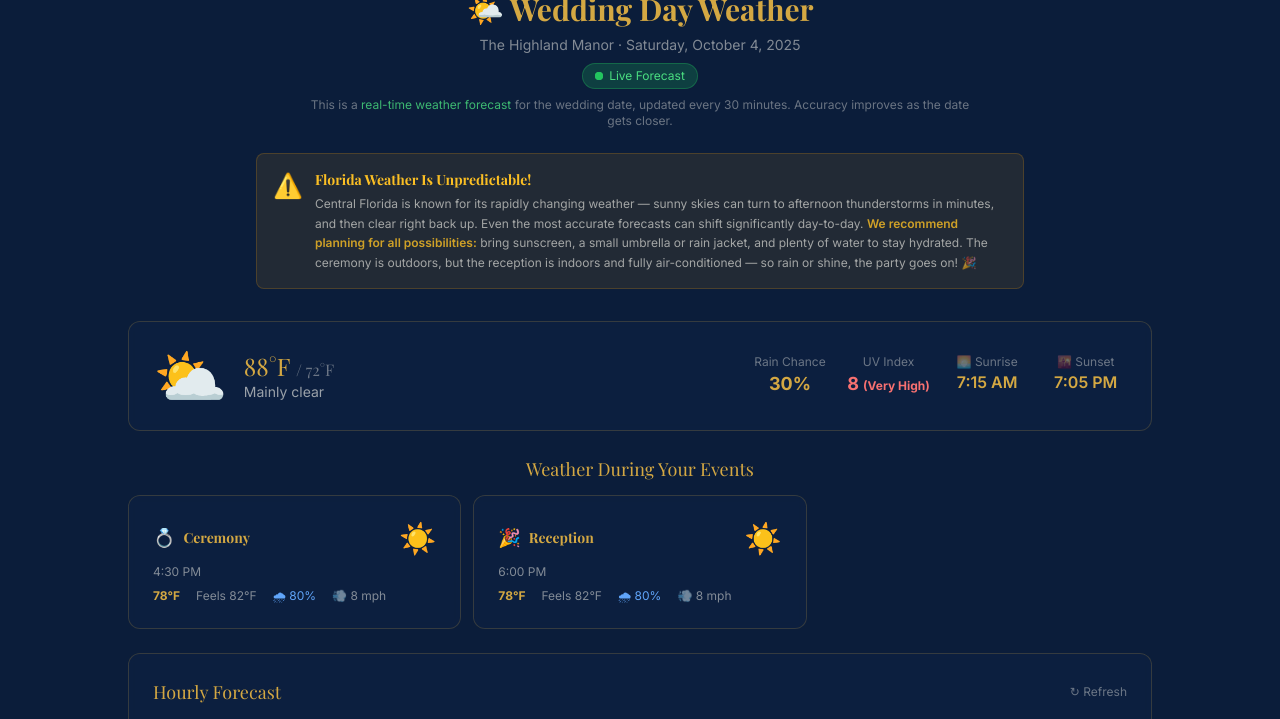
WeatherForecast › shows precipitation details in selected hour panel
Click the text "Ceremony" at (217, 538), box left=184, top=528, right=250, bottom=548
(page scrolled)
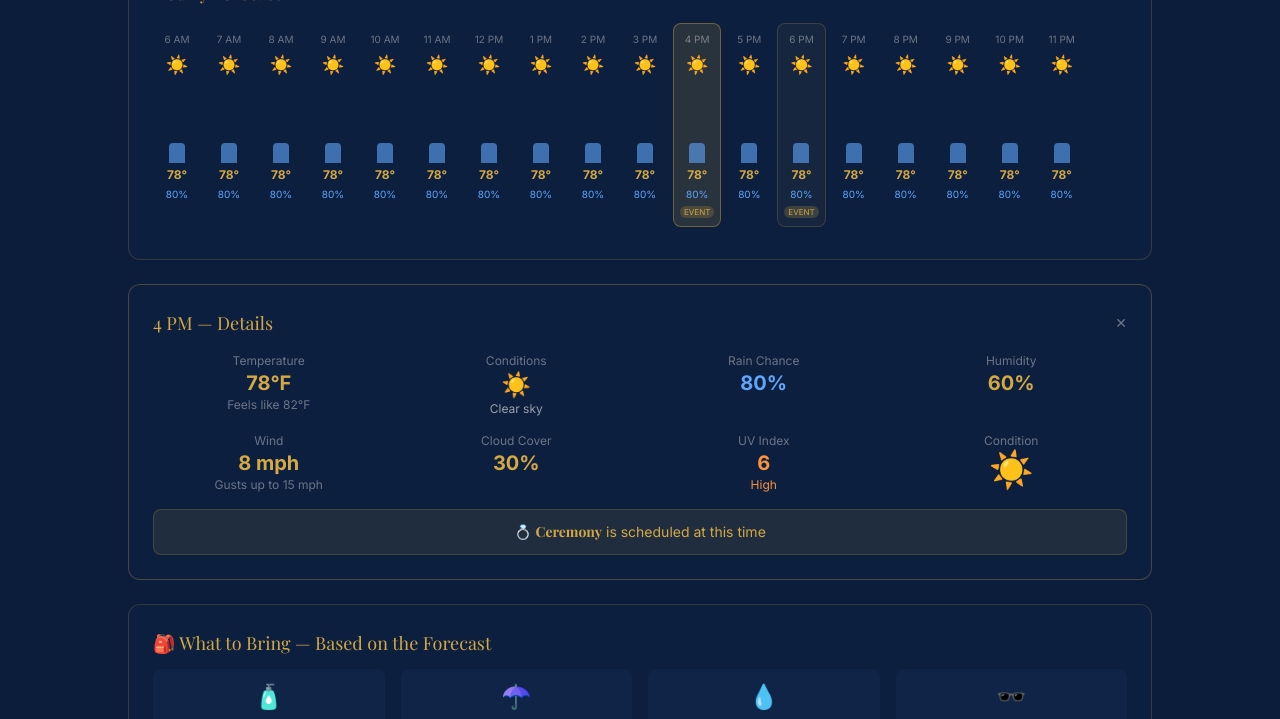
Expected: the text "Humidity" is shown, left=986, top=353, right=1037, bottom=368
Expected: the text "Wind" is shown, left=254, top=433, right=283, bottom=448
